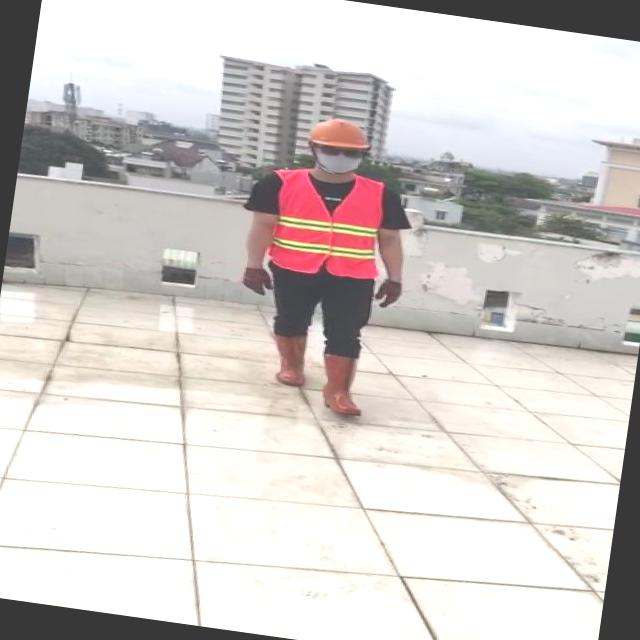boots: (316, 352, 370, 419), (266, 331, 312, 386)
helmet: (298, 114, 381, 156)
vest: (261, 166, 392, 282)
